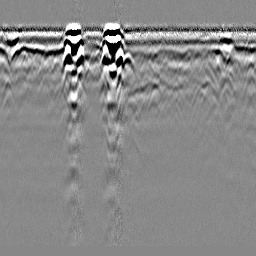cavity: (115, 52, 140, 88)
